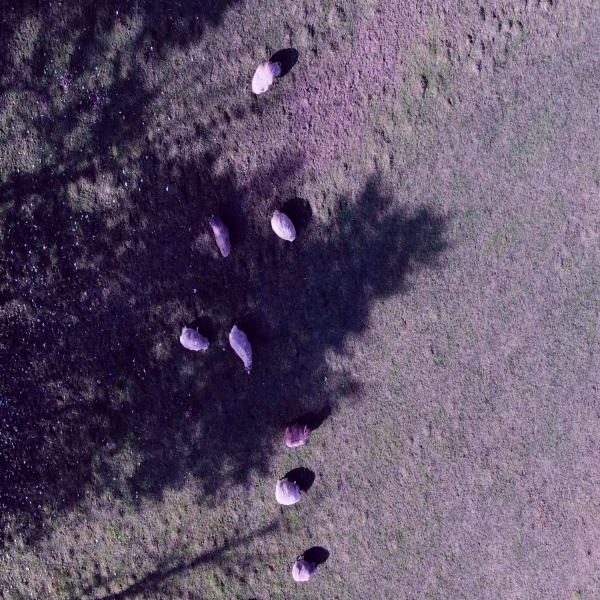sheep: (245, 47, 290, 100), (206, 206, 237, 269), (266, 201, 301, 256), (226, 319, 256, 377), (179, 317, 213, 361), (271, 473, 307, 512), (279, 411, 312, 449), (288, 549, 316, 589)
